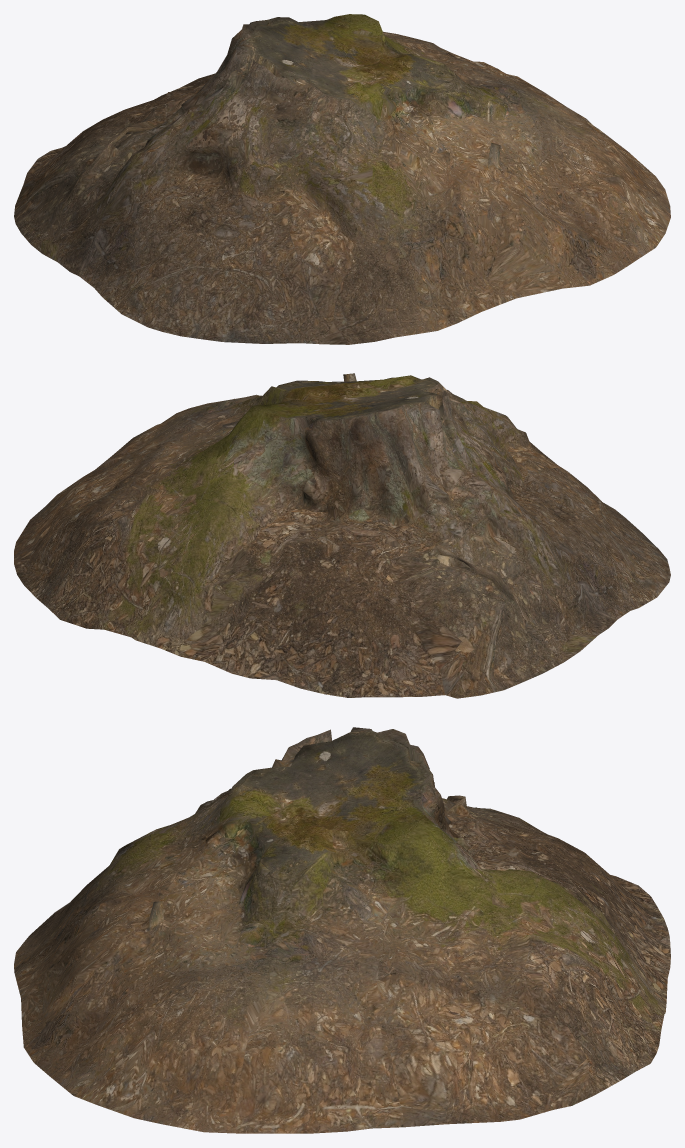
Rendered from tree_stump_02.glb.
3 views of the same model, one above another, from view 1: azimuth 30°, elevation 25°; view 2: azimuth 150°, elevation 25°; view 3: azimuth 270°, elevation 25° (orthographic). The views are drawn at different scales.
Visible parts, largest first — view 1: tree_stump_02; view 2: tree_stump_02; view 3: tree_stump_02.
Part boxes in pixels (x1,y1,x2,y2): tree_stump_02: (14, 14, 670, 344); tree_stump_02: (14, 373, 670, 698); tree_stump_02: (14, 727, 670, 1133).
Bounding box in the file's own units: 1.52 × 0.5191 × 1.39.
1 material, 1 textured.
